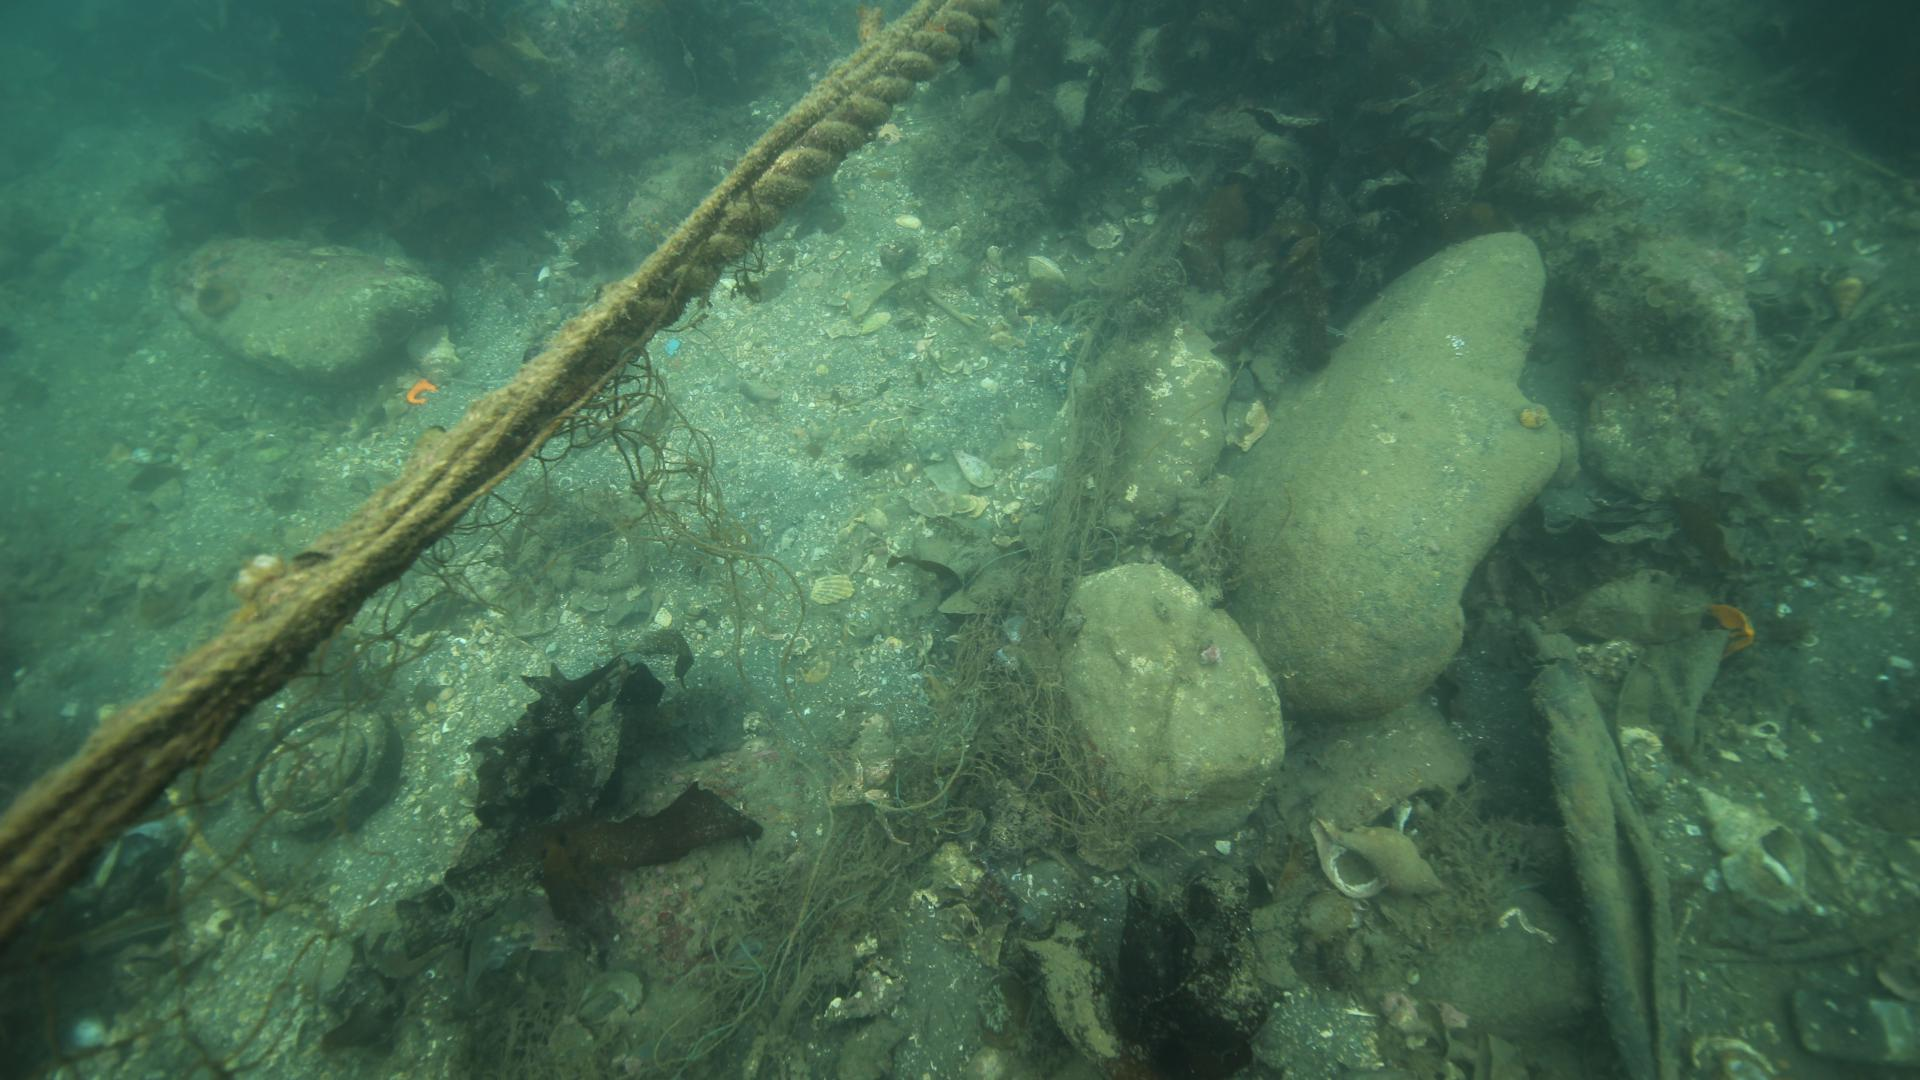bundle of ropes: (0, 0, 1011, 945)
